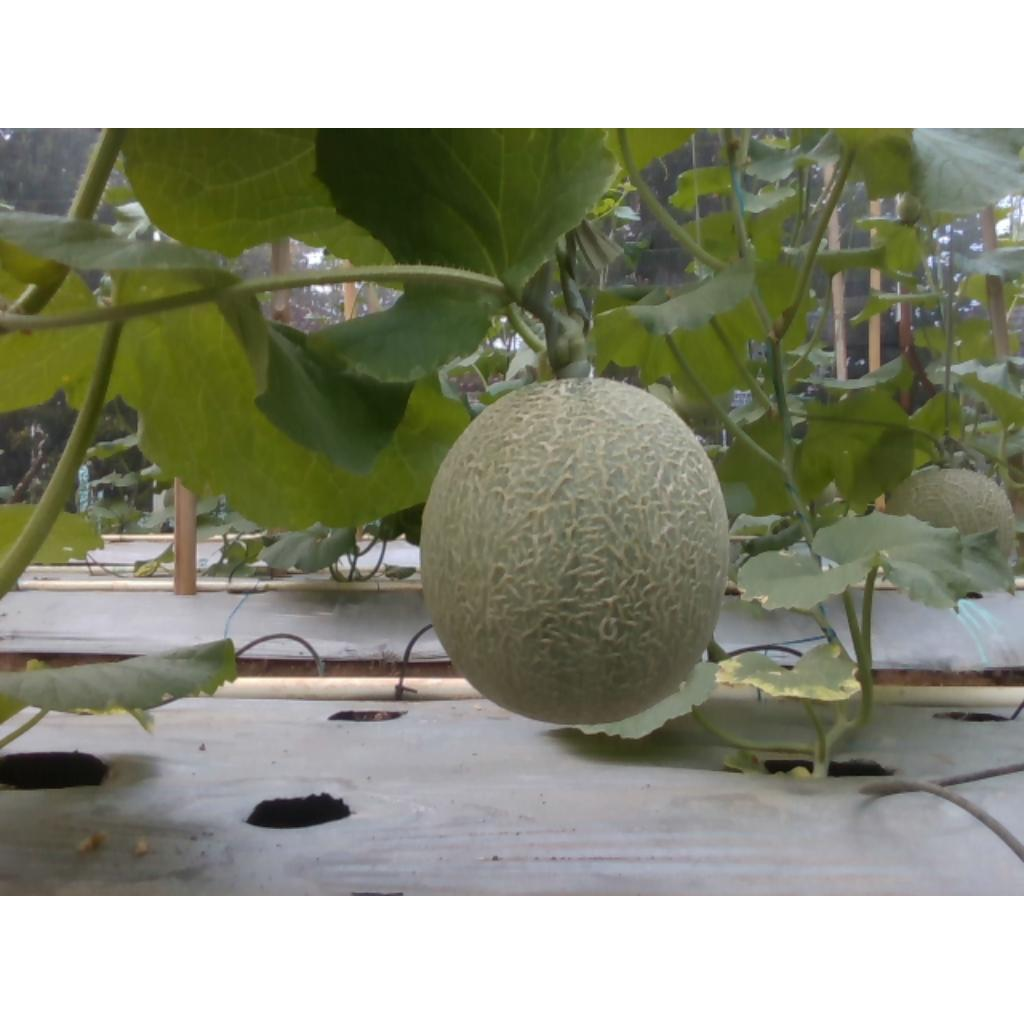melon: (421, 378, 731, 724)
